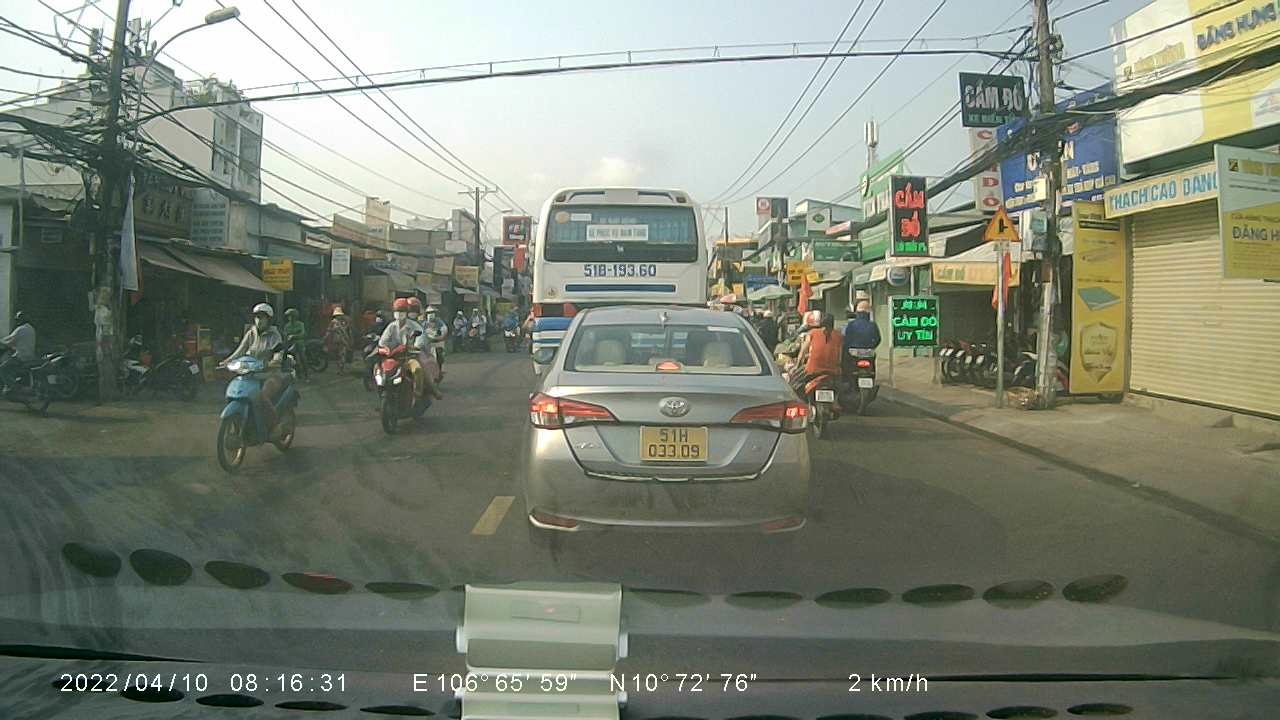Giao nhau voi duong khong uu tien: (982, 202, 1022, 245)
